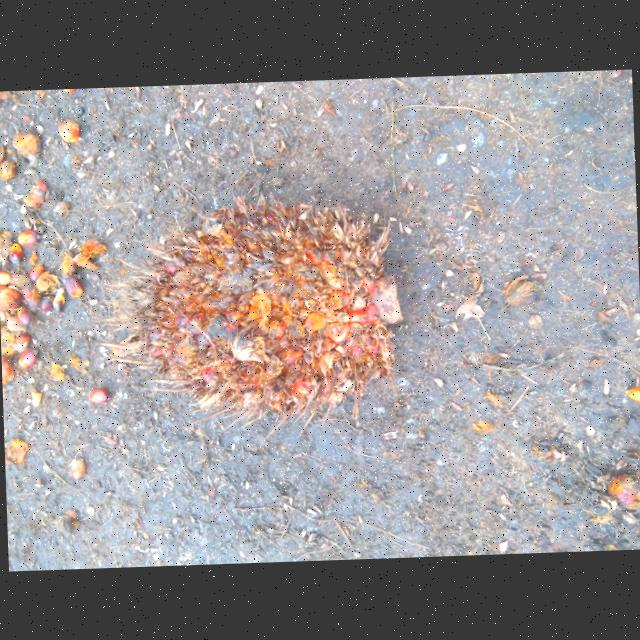Overripe: (124, 205, 415, 414)
